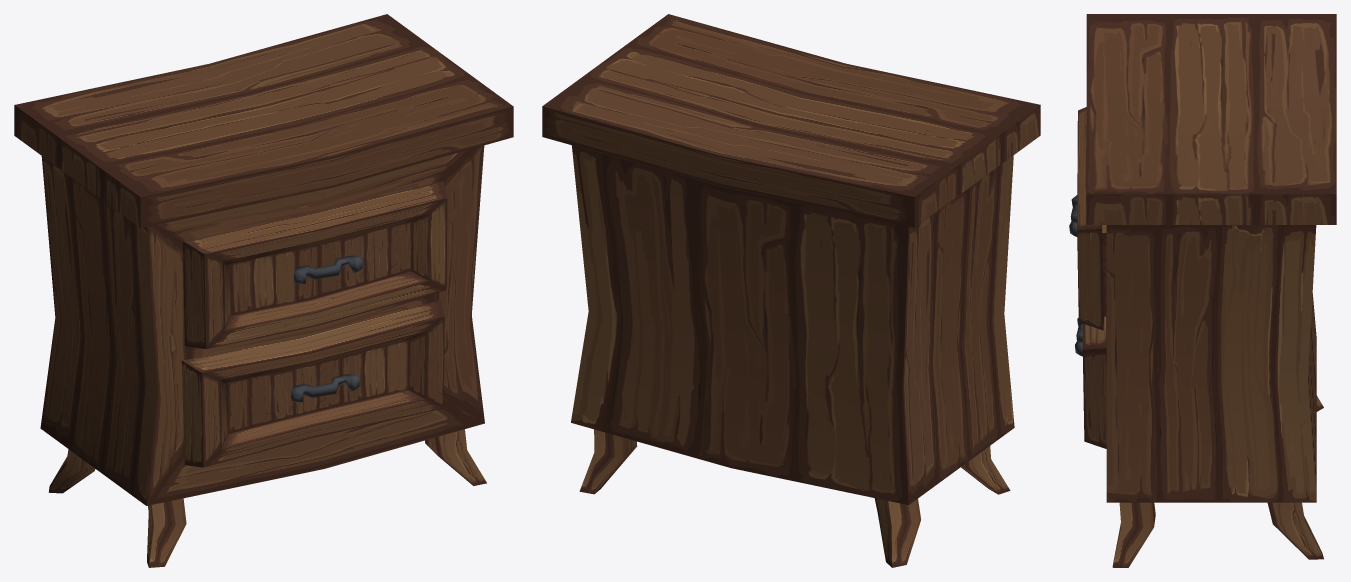
The model's file is SM_PROP_dresser_interior_01.fbx.
The picture shows the model from 3 angles, left to right: view 1: azimuth 30°, elevation 25°; view 2: azimuth 150°, elevation 25°; view 3: azimuth 270°, elevation 25°; orthographic projection.
Visible parts, largest first — view 1: SM_PROP_dresser_interior_01, SM_PROP_dresser_drawer_01_interior_01, SM_PROP_dresser_drawer_02_interior_01; view 2: SM_PROP_dresser_interior_01; view 3: SM_PROP_dresser_interior_01, SM_PROP_dresser_drawer_01_interior_01, SM_PROP_dresser_drawer_02_interior_01.
Part boxes in pixels (x1,y1,x2,y2): SM_PROP_dresser_interior_01: [14, 14, 513, 567]; SM_PROP_dresser_drawer_01_interior_01: [183, 181, 447, 348]; SM_PROP_dresser_drawer_02_interior_01: [181, 300, 444, 467]; SM_PROP_dresser_interior_01: [542, 14, 1040, 567]; SM_PROP_dresser_interior_01: [1086, 14, 1336, 567]; SM_PROP_dresser_drawer_01_interior_01: [1069, 107, 1106, 330]; SM_PROP_dresser_drawer_02_interior_01: [1075, 316, 1106, 448].
Size of the model in its own units: 132 by 130 by 82.69.
